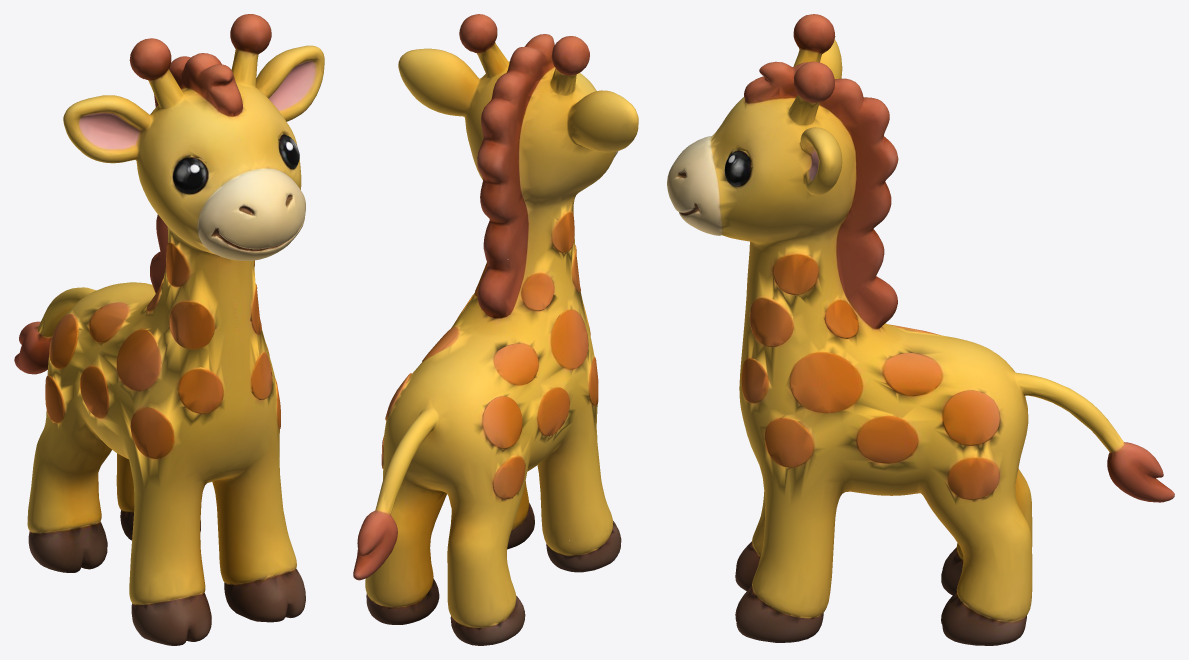
File: girafa.glb
3 views of the same model, side by side, from view 1: azimuth 30°, elevation 25°; view 2: azimuth 150°, elevation 25°; view 3: azimuth 270°, elevation 25° (orthographic). The views are drawn at different scales.
Parts seen in each view (by area): view 1: personagem; view 2: personagem; view 3: personagem.
Boxes of the visible parts, bbox=[...] form: personagem: bbox=[14, 14, 324, 645]; personagem: bbox=[353, 14, 638, 645]; personagem: bbox=[667, 14, 1174, 645].
Bounding box in the file's own units: 0.4544 × 0.9793 × 0.7848.
1 material, 1 textured.
